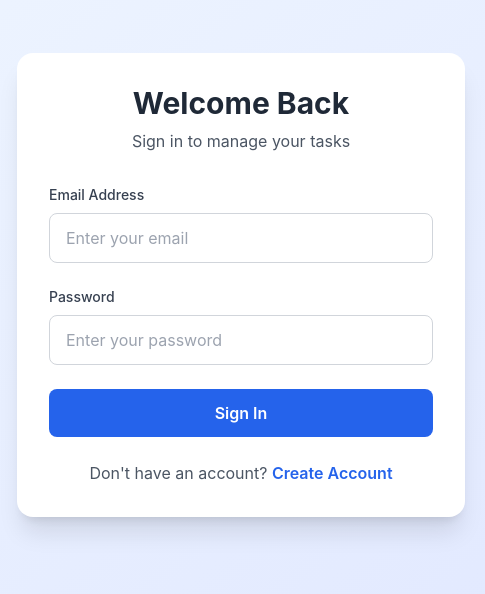
Login Component › displays error when fields are empty
The image size is (485, 594).
Click the button with test id "login-button" at (241, 413), box [49,389,433,437]
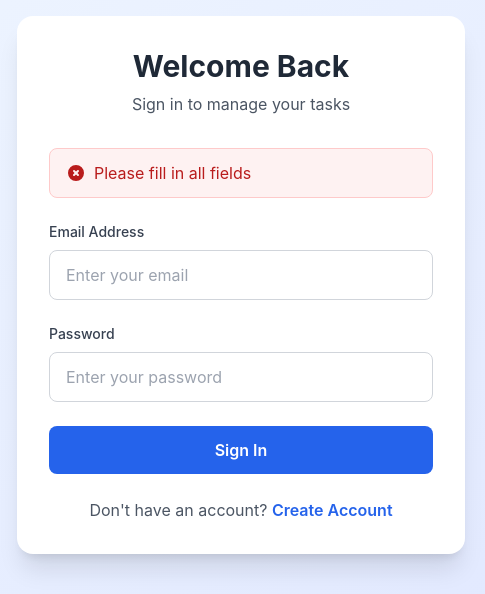
Expected: the text "Please fill in all fields" is shown, [94,161,251,185]
